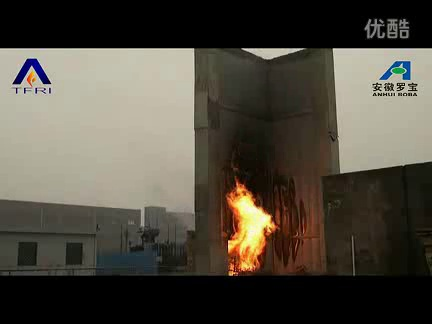fire: (217, 175, 276, 274)
